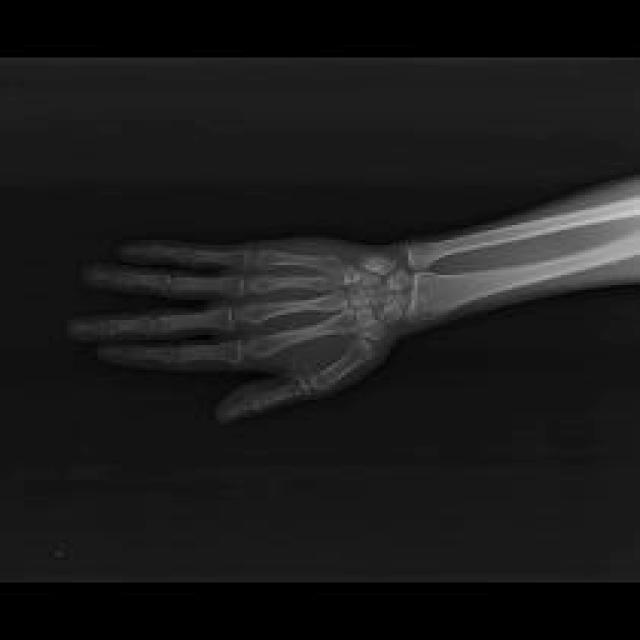normal: (69, 197, 639, 404)
